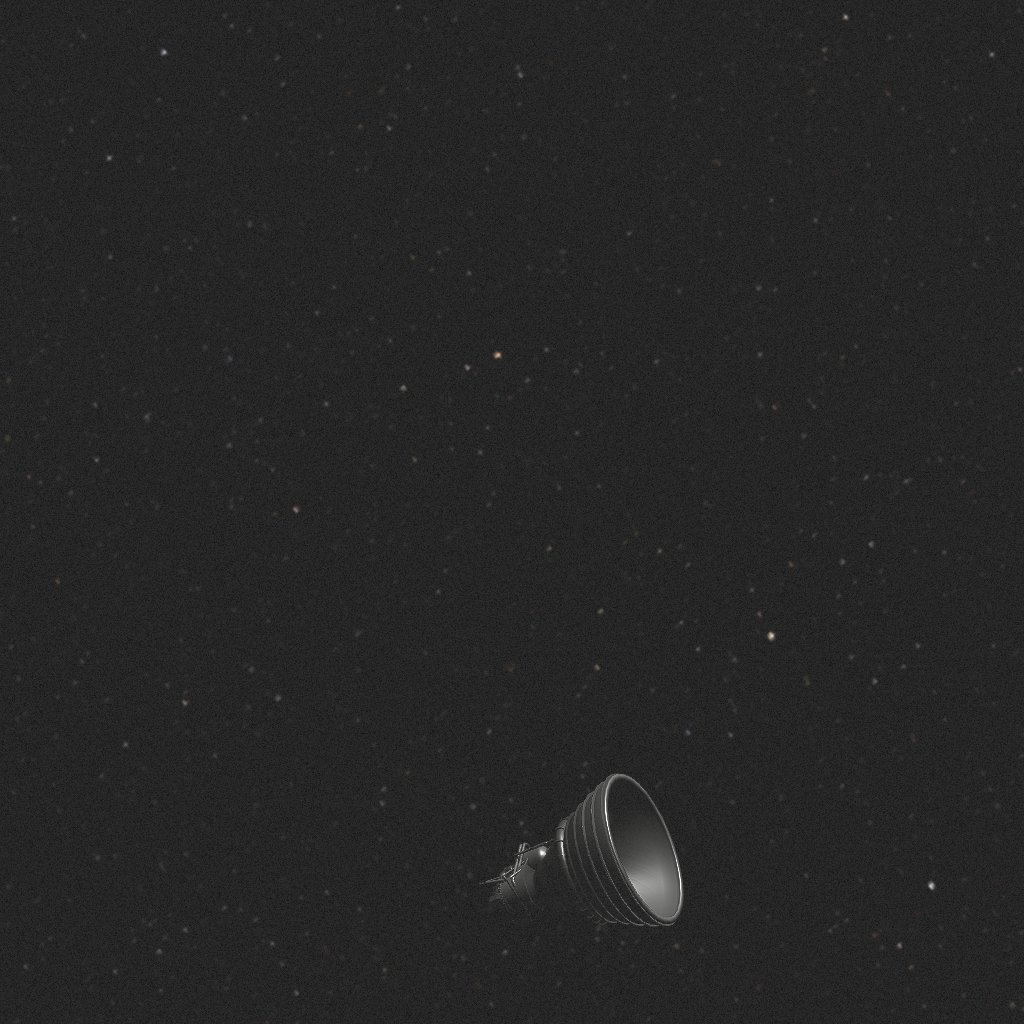debris: (478, 774, 684, 927)
